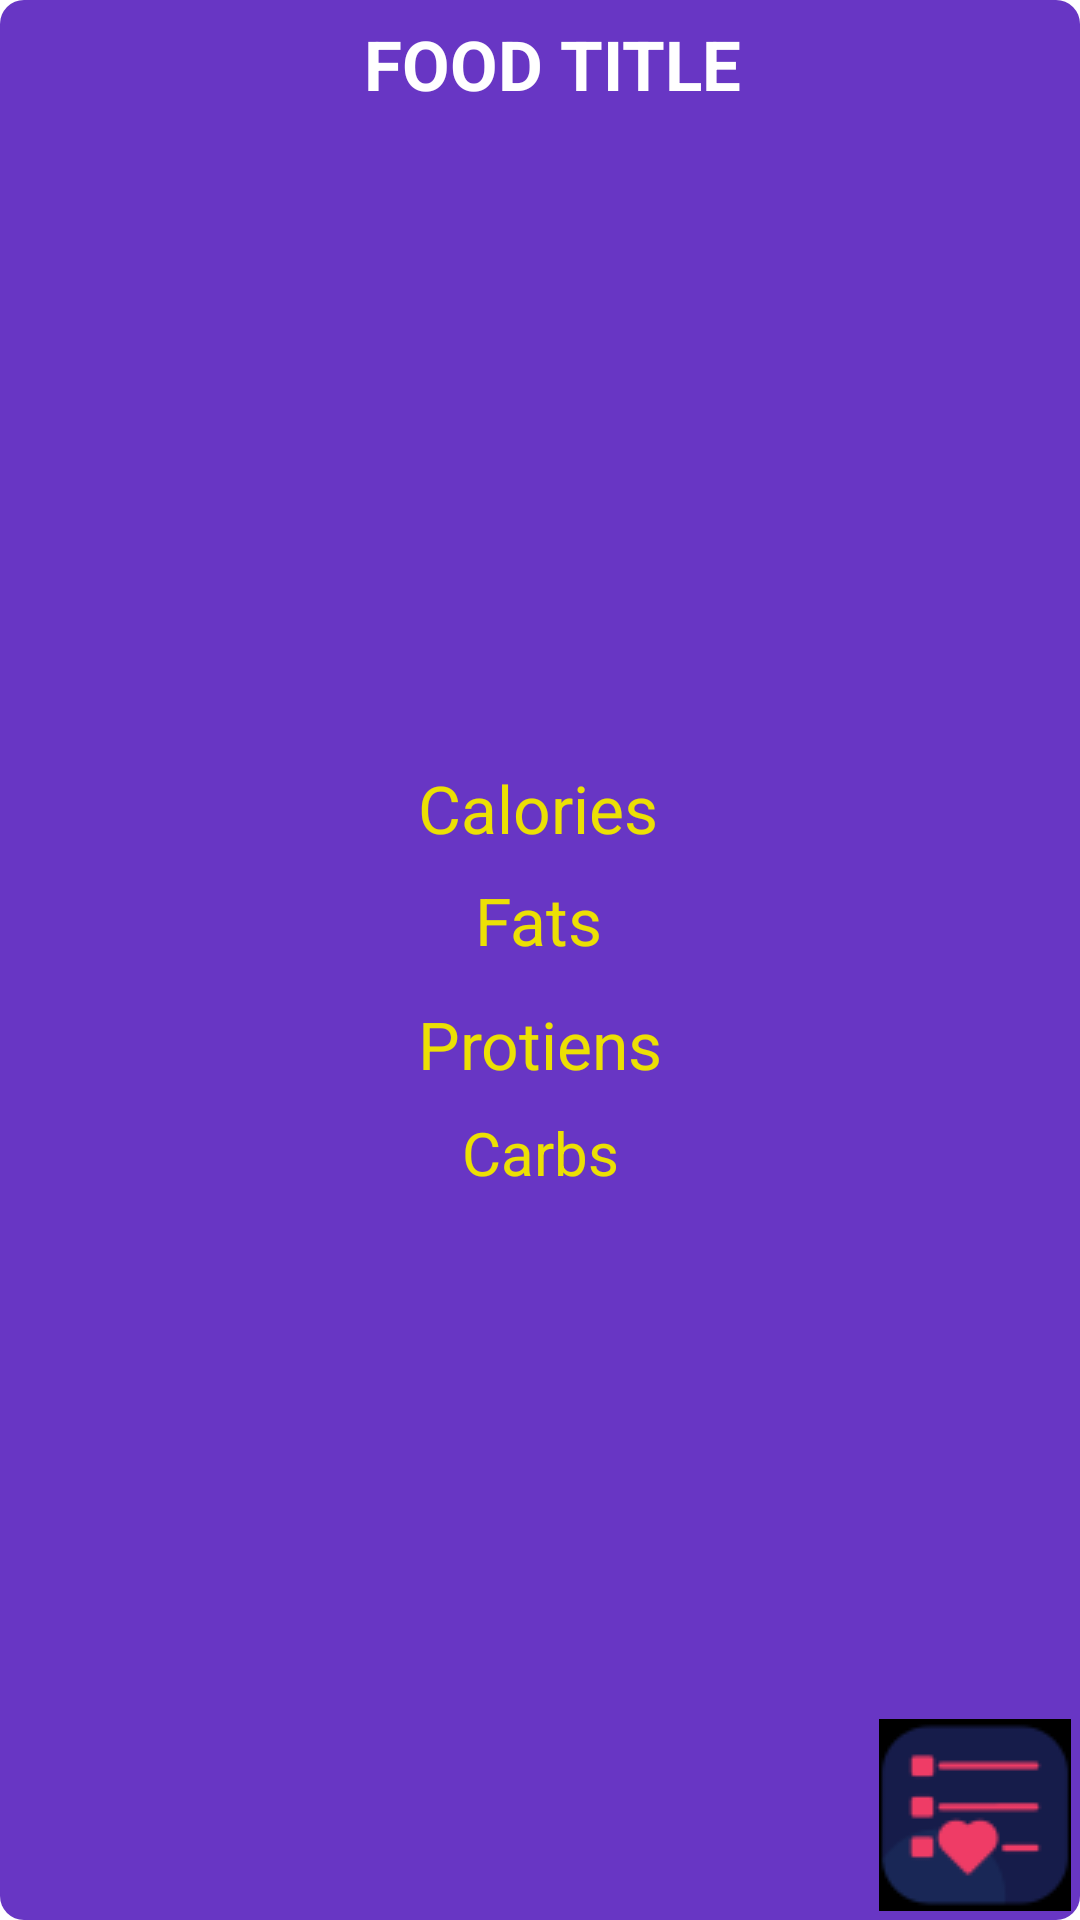

Point at icon controls on the screen. Image size 1080*1920, points as point (x, y).
add fav: point (975, 1815)
